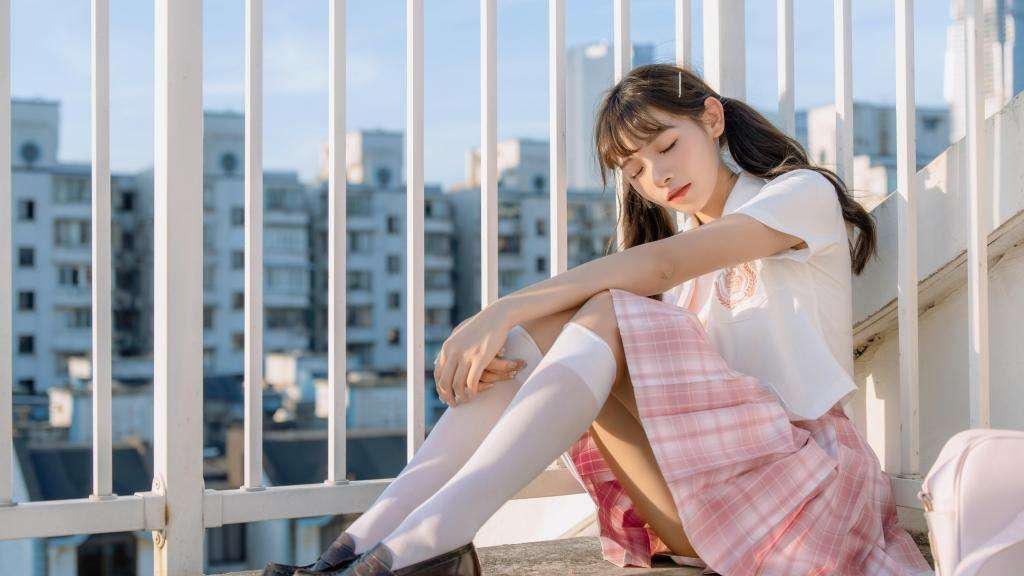person: (439, 70, 865, 527)
